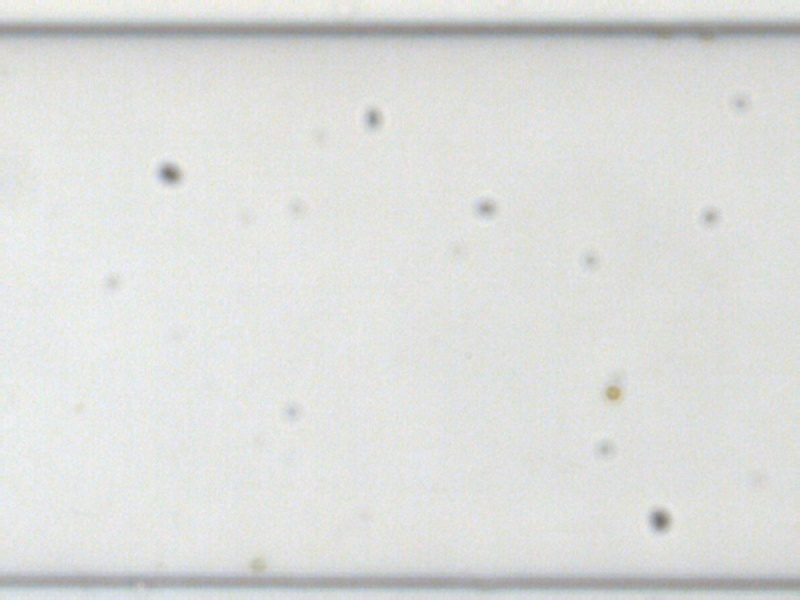Chlorella: (249, 555, 266, 572), (605, 382, 620, 399)
